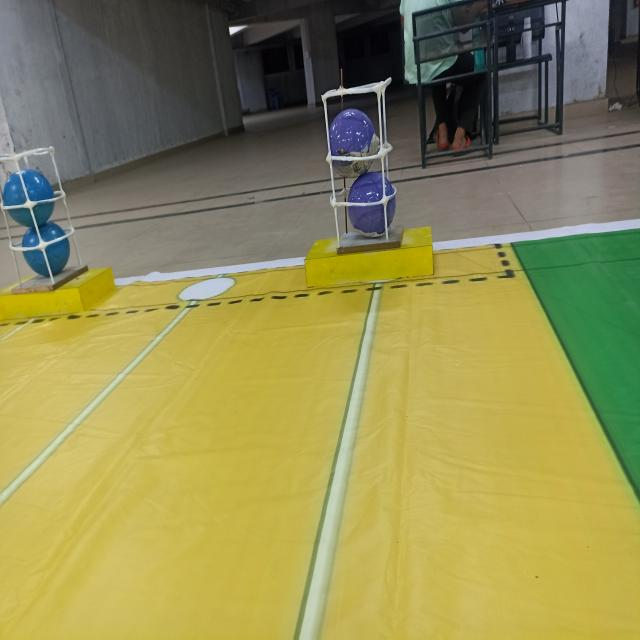blue_ball: (3, 169, 57, 223), (22, 223, 69, 276)
purple_ball: (329, 109, 376, 177), (349, 174, 395, 234)
silo: (318, 74, 404, 251), (0, 143, 90, 289)
